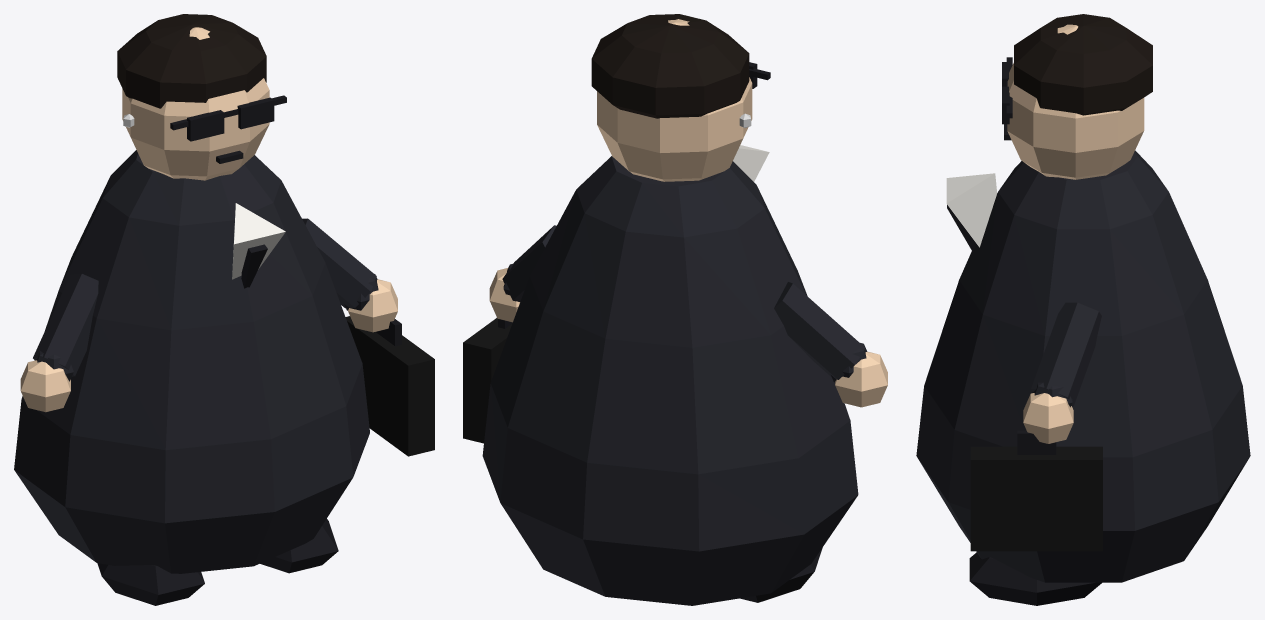
Rendered from npc_asuntos_internos.glb.
3 renders of one model, left to right at view 1: azimuth 30°, elevation 25°; view 2: azimuth 150°, elevation 25°; view 3: azimuth 270°, elevation 25°, orthographic. The views are drawn at different scales.
Parts seen in each view (by area): view 1: body_black_suit, head_hair_black, head_skin_crema, props_case_black, arms_black_suit, legs_black, arms_skin_crema, face_black, body_white, body_black; view 2: body_black_suit, head_hair_black, head_skin_crema, arms_black_suit, props_case_black, arms_skin_crema, legs_black, body_white; view 3: body_black_suit, props_case_black, head_hair_black, head_skin_crema, arms_black_suit, legs_black, body_white, arms_skin_crema, props_black, face_black.
Boxes of the visible parts, bbox=[...] form: body_black_suit: bbox=[14, 150, 369, 573]; head_hair_black: bbox=[117, 14, 266, 108]; head_skin_crema: bbox=[122, 27, 269, 180]; props_case_black: bbox=[345, 316, 434, 456]; arms_black_suit: bbox=[33, 218, 378, 381]; legs_black: bbox=[97, 519, 338, 605]; arms_skin_crema: bbox=[20, 279, 397, 412]; face_black: bbox=[170, 95, 286, 163]; body_white: bbox=[232, 203, 285, 279]; body_black: bbox=[241, 244, 267, 288]; body_black_suit: bbox=[482, 156, 858, 605]; head_hair_black: bbox=[591, 14, 749, 118]; head_skin_crema: bbox=[597, 19, 752, 181]; arms_black_suit: bbox=[502, 225, 867, 382]; props_case_black: bbox=[463, 318, 511, 443]; arms_skin_crema: bbox=[489, 268, 887, 407]; legs_black: bbox=[740, 547, 822, 602]; body_white: bbox=[733, 145, 769, 181]; body_black_suit: bbox=[916, 150, 1250, 582]; props_case_black: bbox=[970, 446, 1102, 551]; head_hair_black: bbox=[1014, 14, 1152, 115]; head_skin_crema: bbox=[1007, 24, 1144, 179]; arms_black_suit: bbox=[1031, 302, 1101, 407]; legs_black: bbox=[969, 552, 1101, 605]; body_white: bbox=[946, 173, 997, 247]; arms_skin_crema: bbox=[1023, 393, 1073, 443]; props_black: bbox=[1017, 430, 1056, 454]; face_black: bbox=[1002, 57, 1012, 140].
Size of the model in its own units: 1.13 by 1.53 by 0.86.
